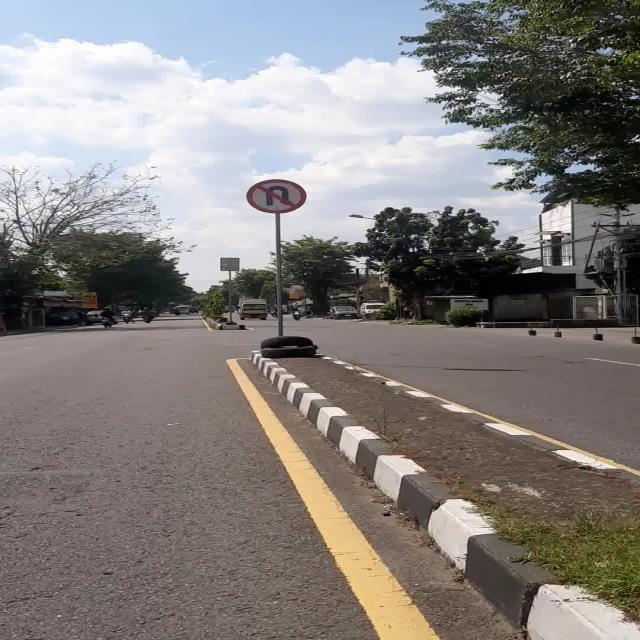Dilarang Putar Balik: (247, 178, 307, 214)
